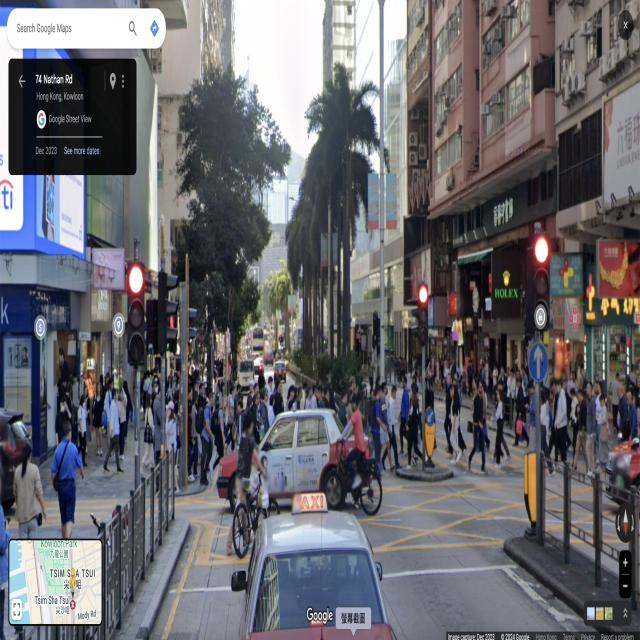Order-Sign: (529, 342, 548, 382), (426, 409, 434, 426)
